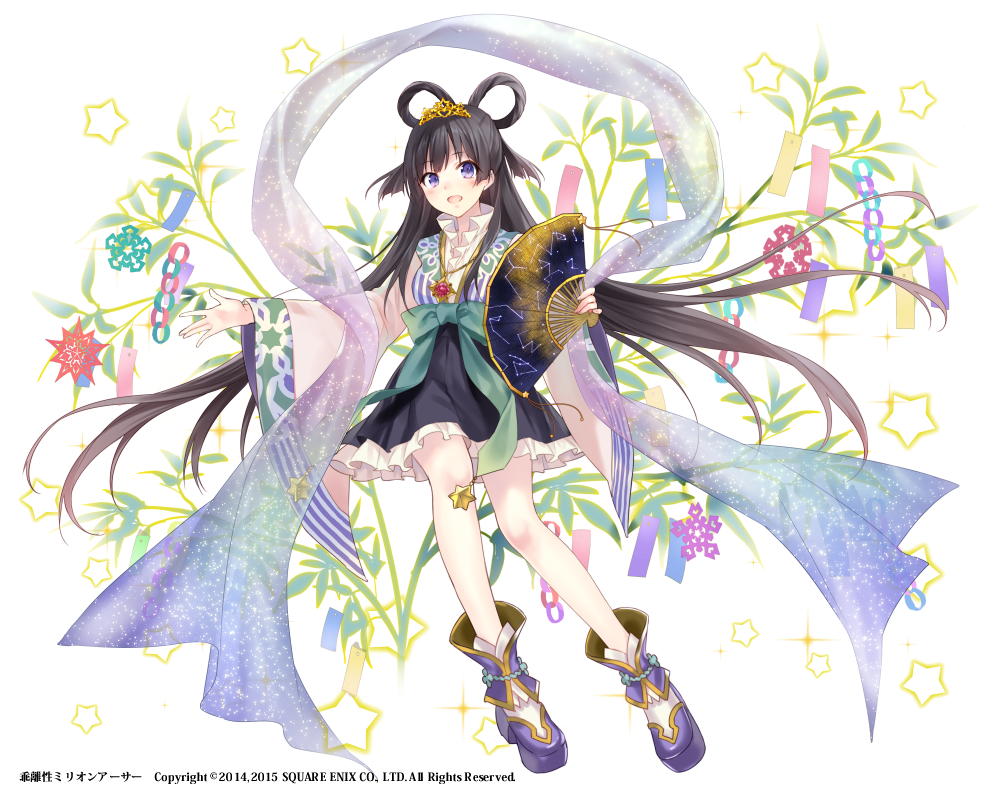纸片人正脸: (382, 89, 522, 229)
